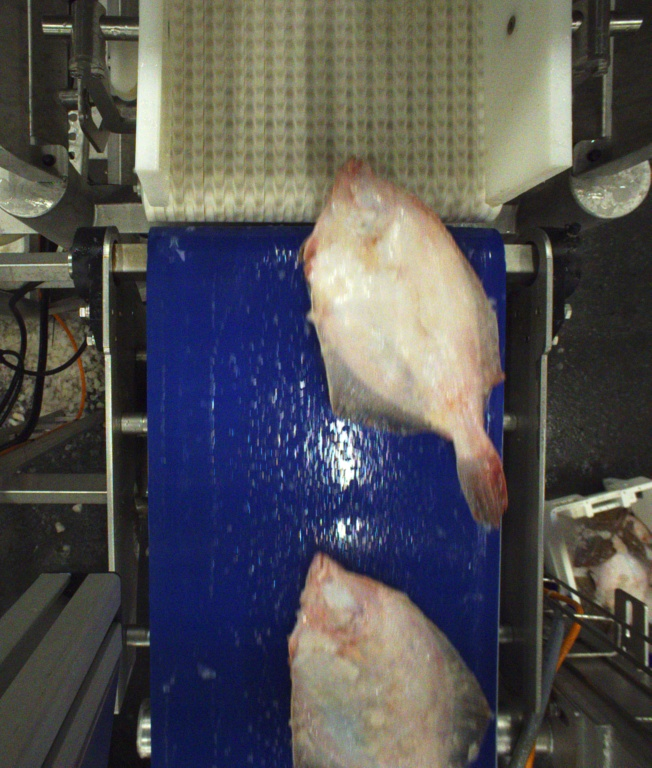PLE: (302, 153, 509, 530)
